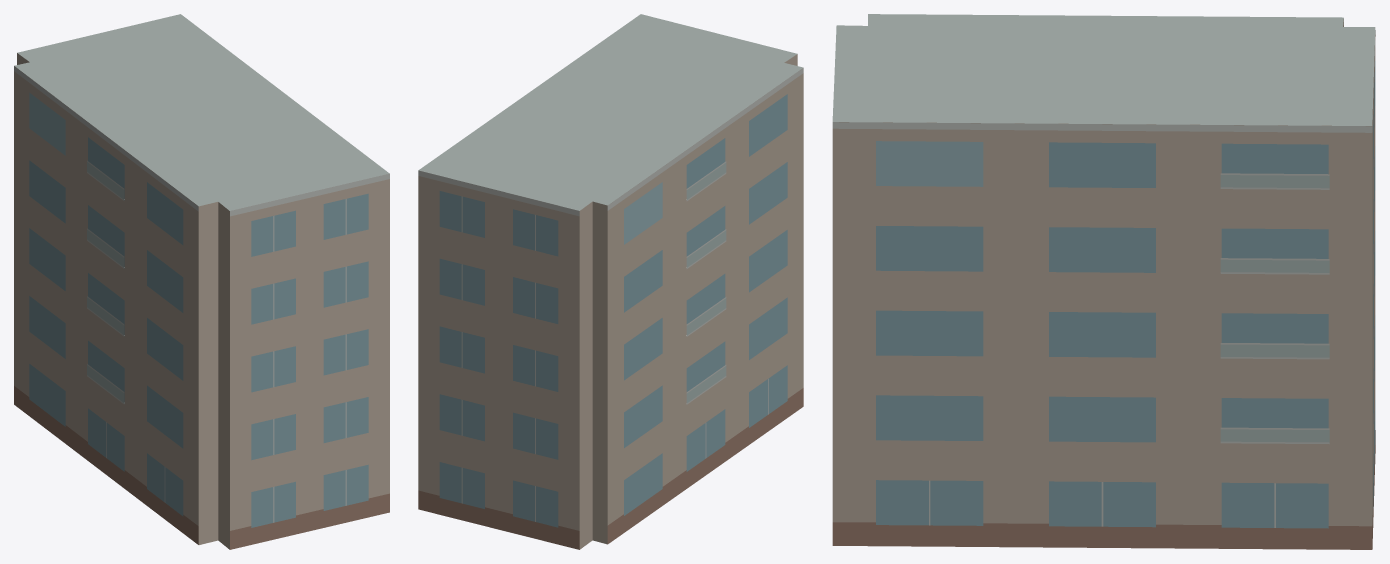
File: survey-upis-32748787.glb
3 renders of one model, left to right at view 1: azimuth 30°, elevation 25°; view 2: azimuth 150°, elevation 25°; view 3: azimuth 270°, elevation 25°, orthographic. The views are drawn at different scales.
Parts seen in each view (by area): view 1: survey-upis-32748787.tmp; view 2: survey-upis-32748787.tmp; view 3: survey-upis-32748787.tmp.
Boxes of the visible parts, bbox=[...] form: survey-upis-32748787.tmp: bbox=[14, 14, 389, 549]; survey-upis-32748787.tmp: bbox=[418, 14, 803, 549]; survey-upis-32748787.tmp: bbox=[832, 14, 1375, 549].
Size of the model in its own units: 8.67 by 15.25 by 17.72.
